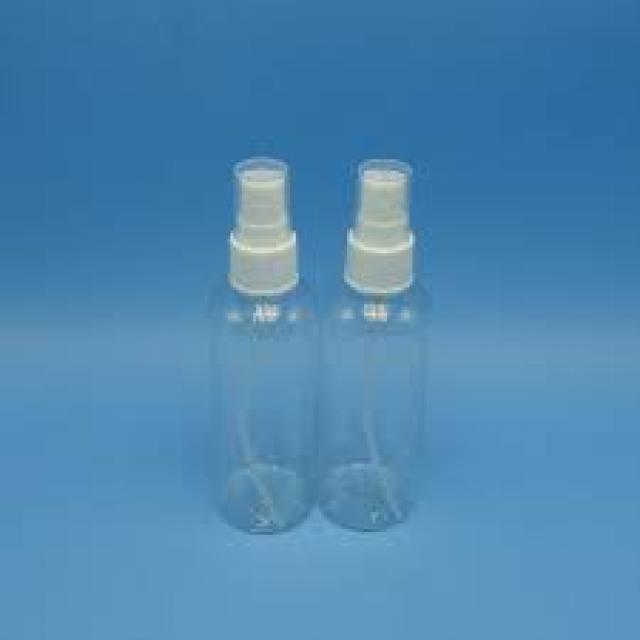Plastic: (214, 159, 320, 536), (319, 160, 423, 536)
